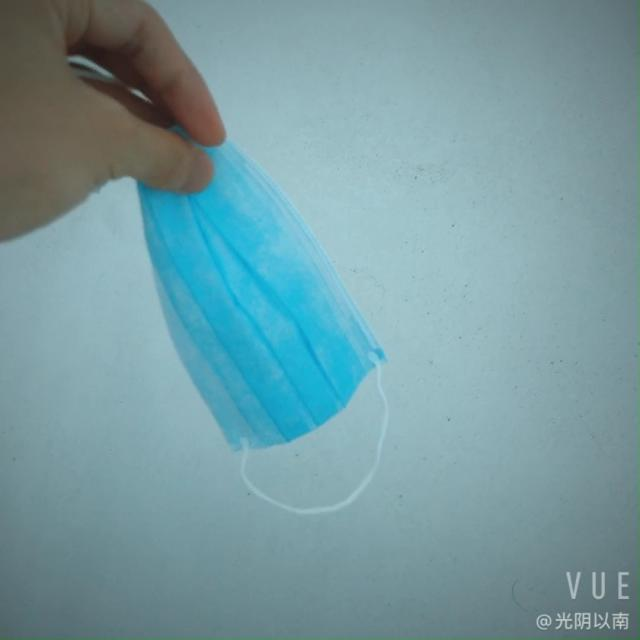face mask: (111, 89, 405, 496)
